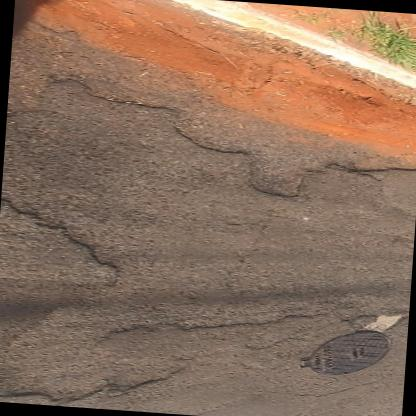manholes: (288, 321, 405, 384)
